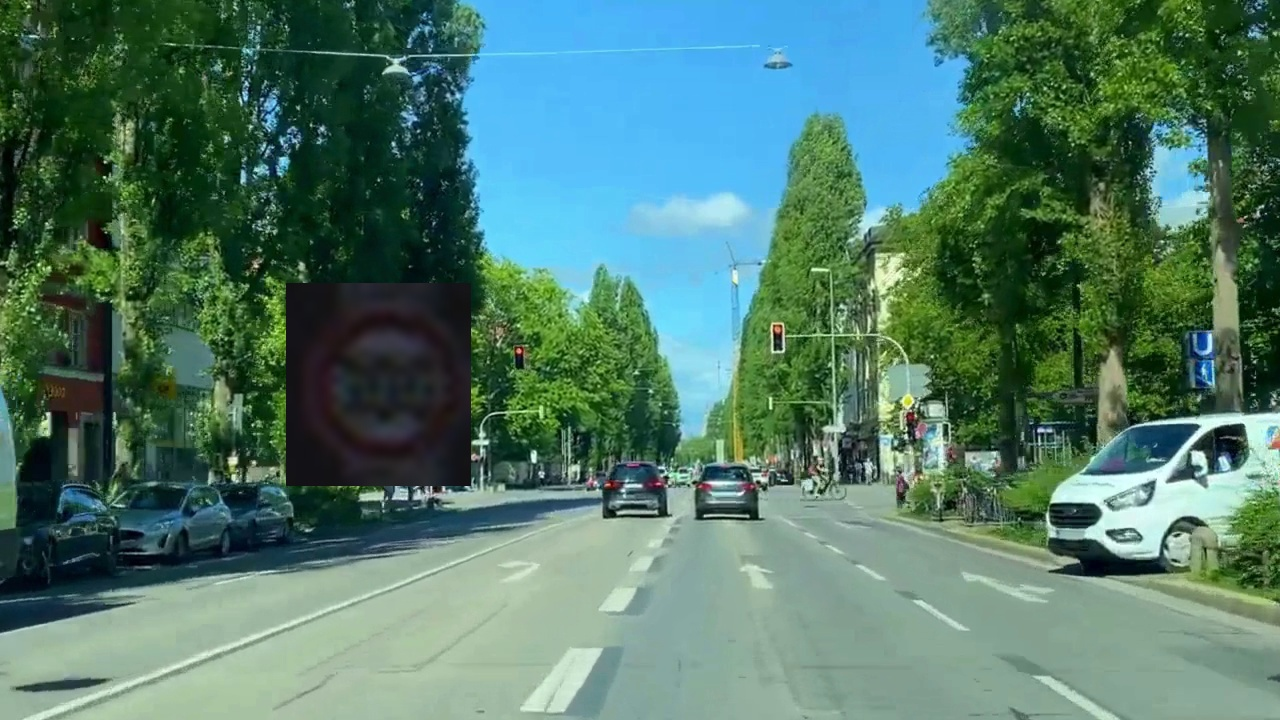Speed 100: (286, 283, 471, 486)
